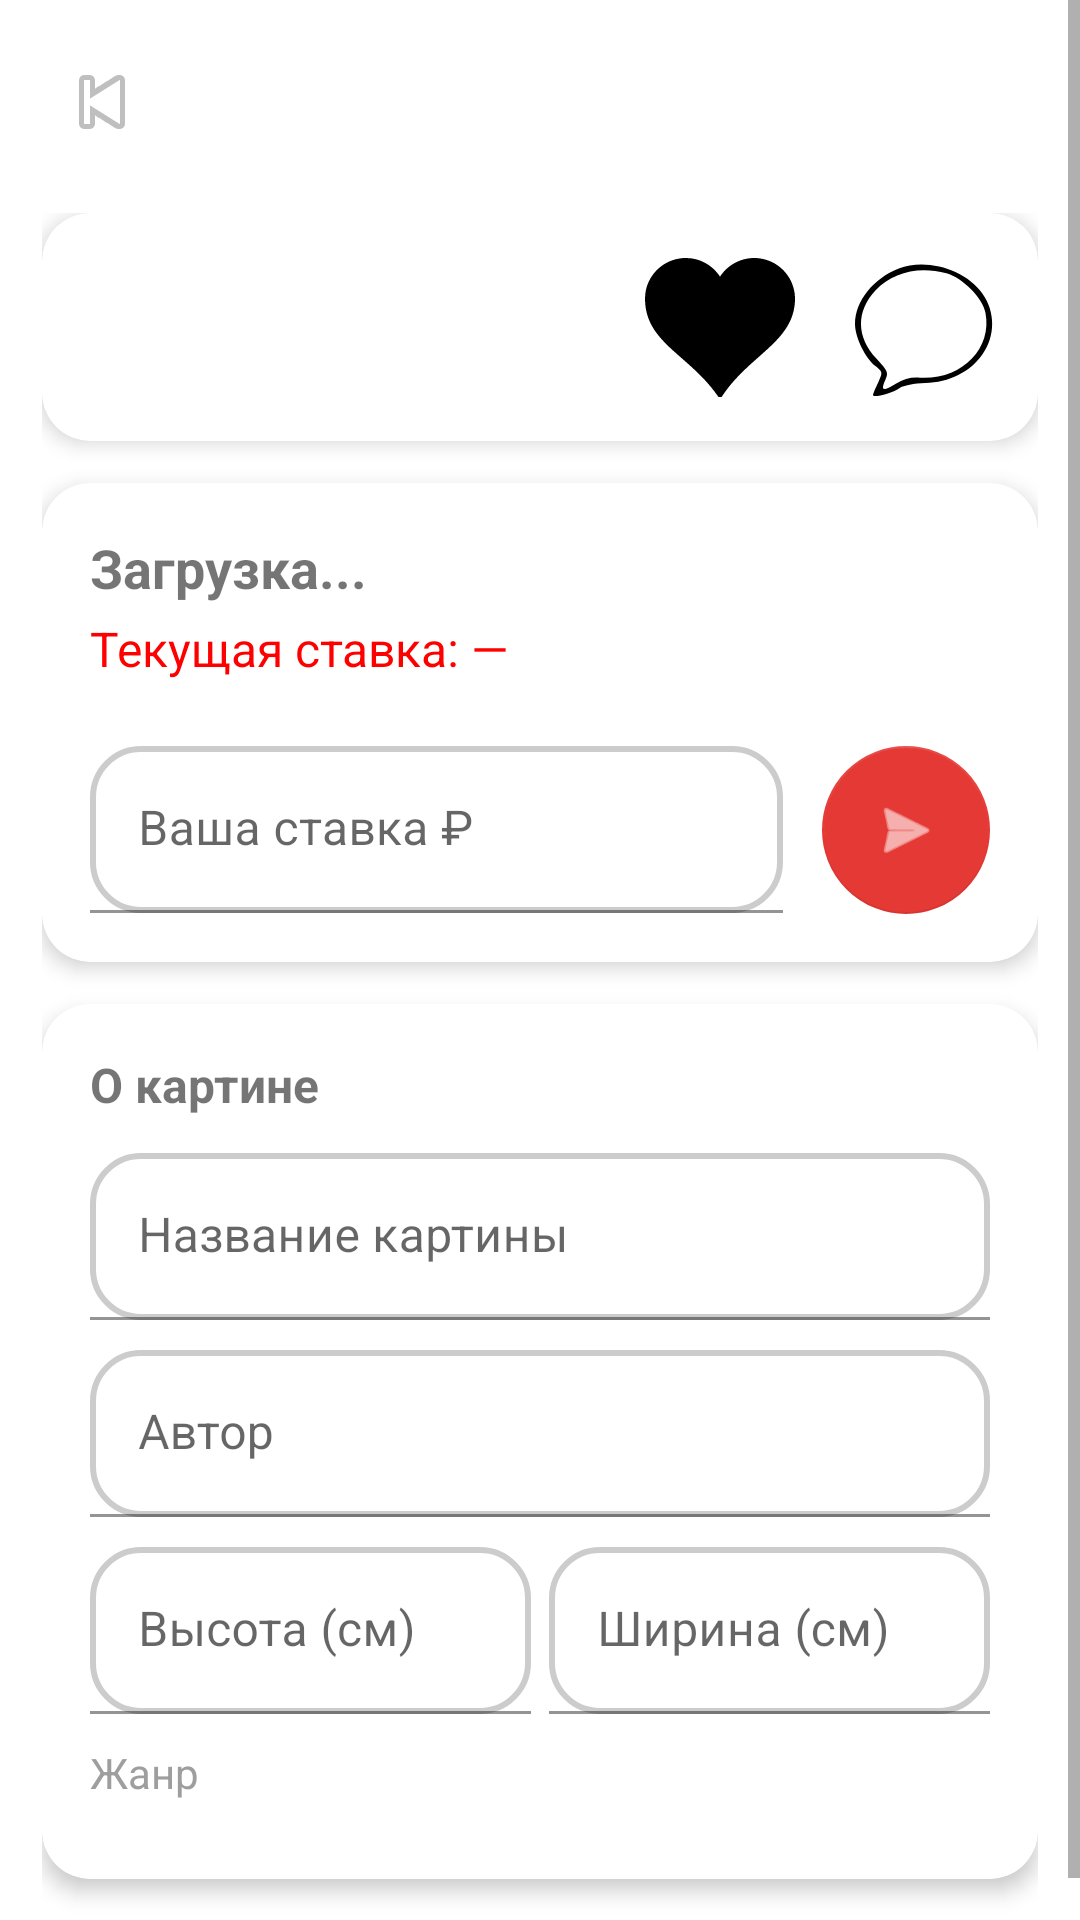

Where to tap for icons on this 1080x1920 app screen, as (x,y):
dialog: (924,330)
fave heart: (720,327)
previous: (102,102)
send: (906,830)
